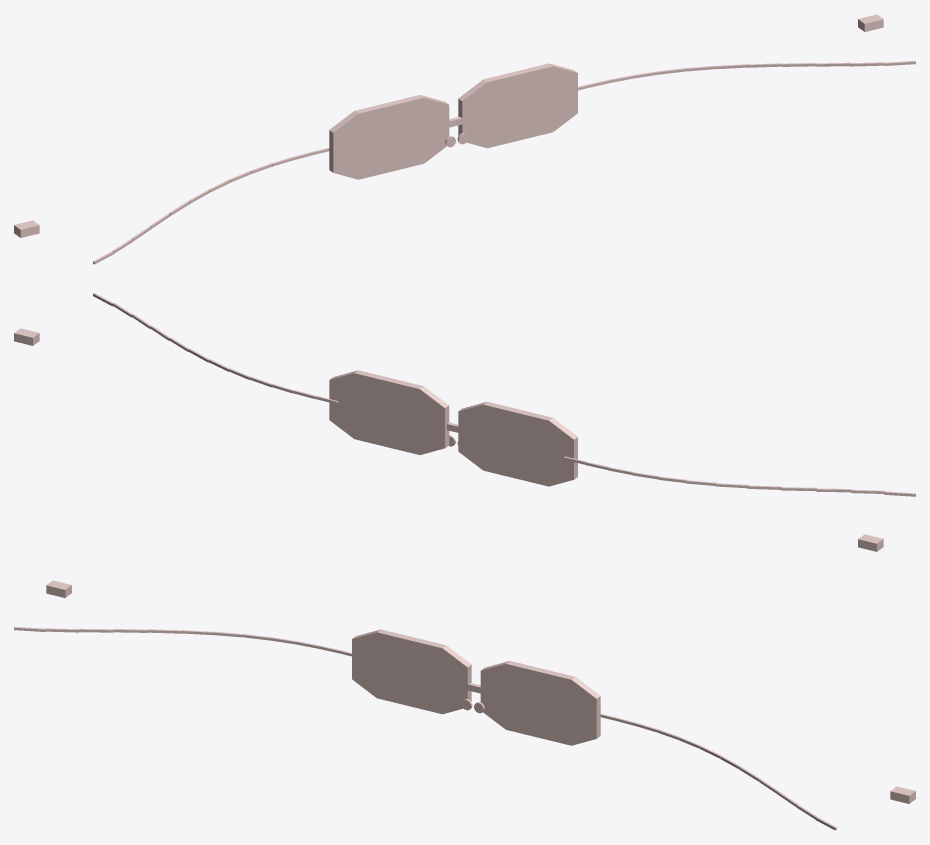
3 renders of one model, top to bottom at view 1: azimuth 30°, elevation 25°; view 2: azimuth 150°, elevation 25°; view 3: azimuth 330°, elevation 25°, orthographic.
Parts seen in each view (by area): view 1: LeftRim, RightRim, RightTemple, LeftTemple, TempleTips; view 2: RightRim, LeftRim, LeftTemple, RightTemple, TempleTips; view 3: RightRim, LeftRim, LeftTemple, RightTemple, TempleTips.
Boxes of the visible parts, x1,y1,x2,y2 form: LeftRim: (329,95,449,179); RightRim: (458,63,577,148); RightTemple: (578,60,915,90); LeftTemple: (93,148,329,264); TempleTips: (14,14,883,237); RightRim: (329,370,449,454); LeftRim: (458,401,577,486); LeftTemple: (563,456,915,496); RightTemple: (93,293,338,404); TempleTips: (14,328,883,551); RightRim: (480,661,600,745); LeftRim: (352,629,471,714); LeftTemple: (14,626,351,656); RightTemple: (600,714,836,830); TempleTips: (46,580,915,803).
Size of the model in its own units: 442 by 32.3 by 53.05.
